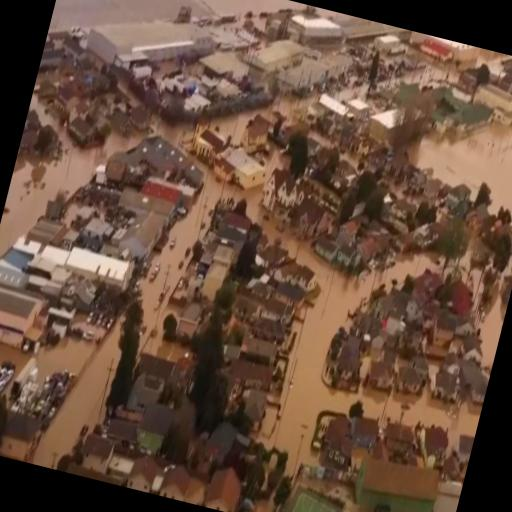flood: (277, 240, 376, 473), (0, 130, 138, 256), (141, 170, 223, 345), (34, 323, 120, 468), (411, 121, 512, 212), (49, 0, 305, 28), (223, 183, 300, 256), (404, 387, 481, 435), (375, 251, 439, 289), (145, 299, 180, 356), (483, 297, 503, 365), (219, 109, 255, 142), (262, 92, 298, 120), (358, 387, 387, 417), (159, 121, 192, 147), (260, 407, 279, 442), (0, 344, 26, 369), (296, 94, 309, 121)
house: (350, 450, 443, 512), (60, 236, 138, 301), (212, 138, 272, 193), (258, 164, 304, 226), (118, 209, 168, 266), (316, 413, 360, 477), (0, 409, 41, 463), (204, 461, 247, 512), (136, 172, 188, 211), (237, 112, 276, 158), (79, 431, 117, 475), (190, 123, 226, 166), (346, 410, 384, 450), (158, 462, 192, 502), (126, 452, 158, 494), (427, 370, 461, 405), (176, 298, 204, 338), (393, 362, 425, 396), (312, 231, 342, 266), (366, 358, 396, 390), (420, 38, 454, 64), (395, 366, 424, 394), (296, 262, 320, 292), (404, 295, 425, 326), (469, 376, 489, 407), (338, 218, 358, 238), (315, 210, 331, 234)
